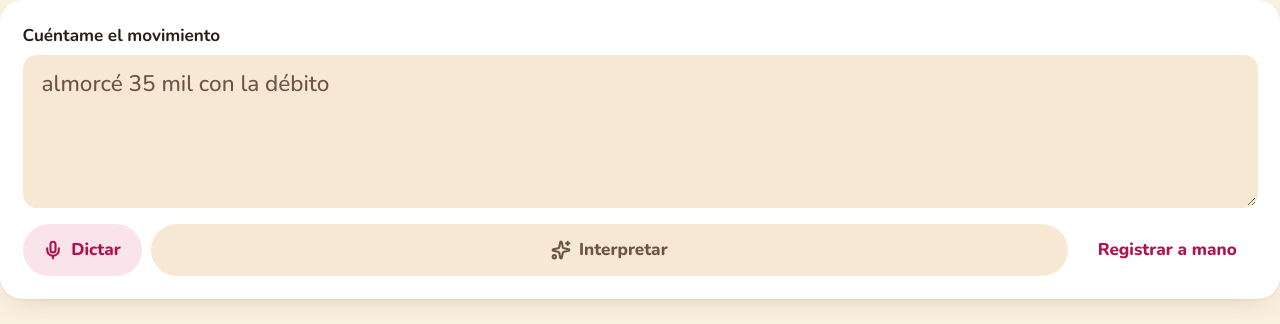
RegisterFlow › fills the box from speech recognition
Click the button "Dictar" at (82, 250), box [22,224,142,276]
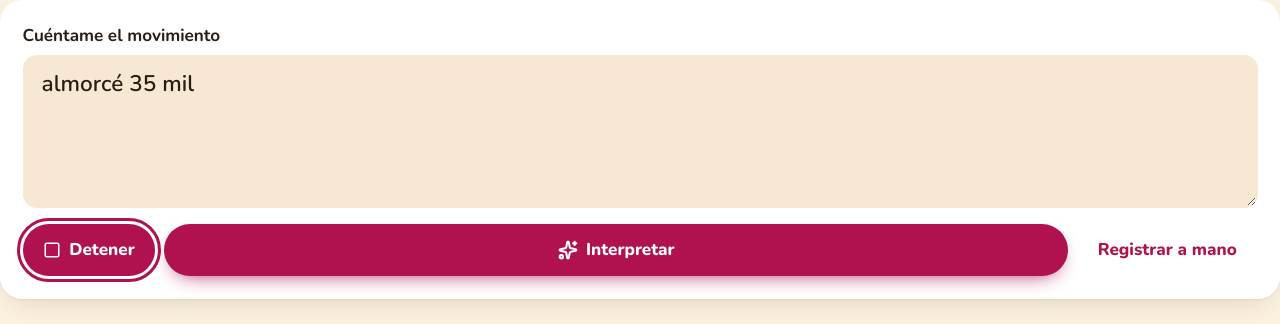
Check: the text box labelled "Cuéntame el movimiento" holds "almorcé 35 mil", box [22,55,1258,208]
